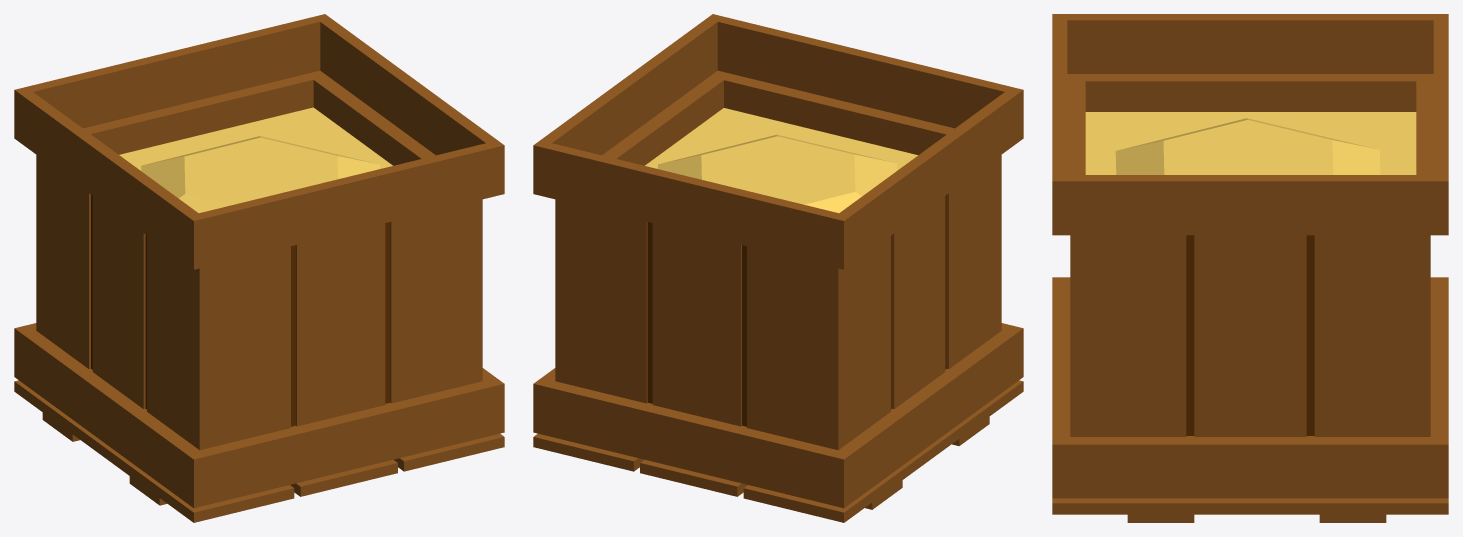
The model's file is Crate_Grain_01.fbx.
3 views of the same model, side by side, from view 1: azimuth 30°, elevation 25°; view 2: azimuth 150°, elevation 25°; view 3: azimuth 270°, elevation 25° (orthographic). The views are drawn at different scales.
Visible parts, largest first — view 1: Crate_Grain_01; view 2: Crate_Grain_01; view 3: Crate_Grain_01.
Part boxes in pixels (x1,y1,x2,y2): Crate_Grain_01: (14,14,504,522); Crate_Grain_01: (533,14,1023,522); Crate_Grain_01: (1052,14,1448,522).
Size of the model in its own units: 18.9 by 17.98 by 18.9.
